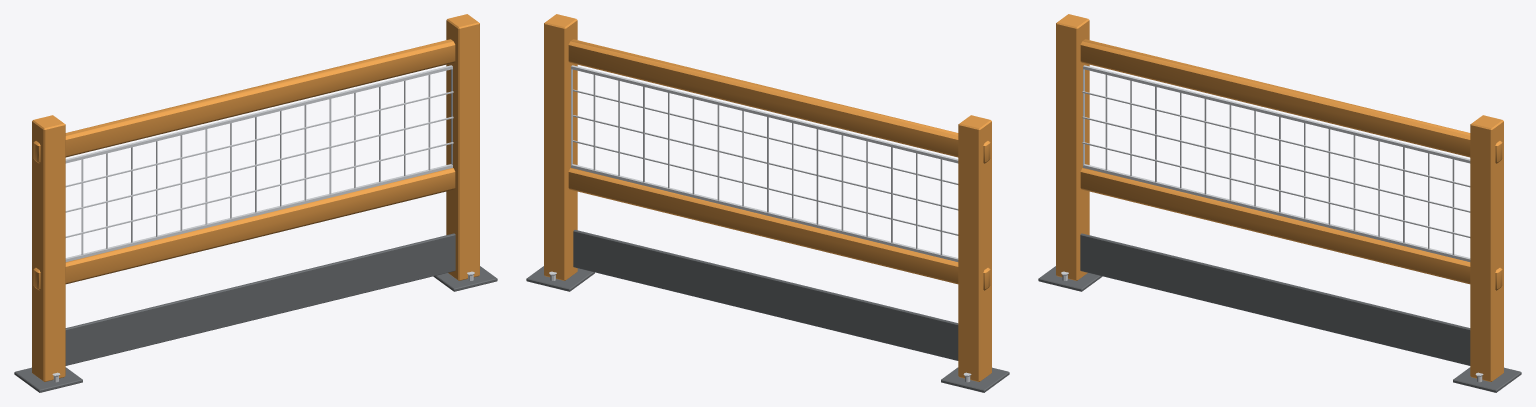
Rendered from aisle-safety-barrier.glb.
3 renders of one model, left to right at view 1: azimuth 30°, elevation 25°; view 2: azimuth 150°, elevation 25°; view 3: azimuth 330°, elevation 25°, orthographic.
Parts seen in each view (by area): view 1: aisle-safety-barrier; view 2: aisle-safety-barrier; view 3: aisle-safety-barrier.
Part boxes in pixels (<box>): aisle-safety-barrier: <box>14,14,497,392</box>; aisle-safety-barrier: <box>526,14,1009,392</box>; aisle-safety-barrier: <box>1038,14,1521,392</box>.
Size of the model in its own units: 2.08 by 1.11 by 0.2001.
